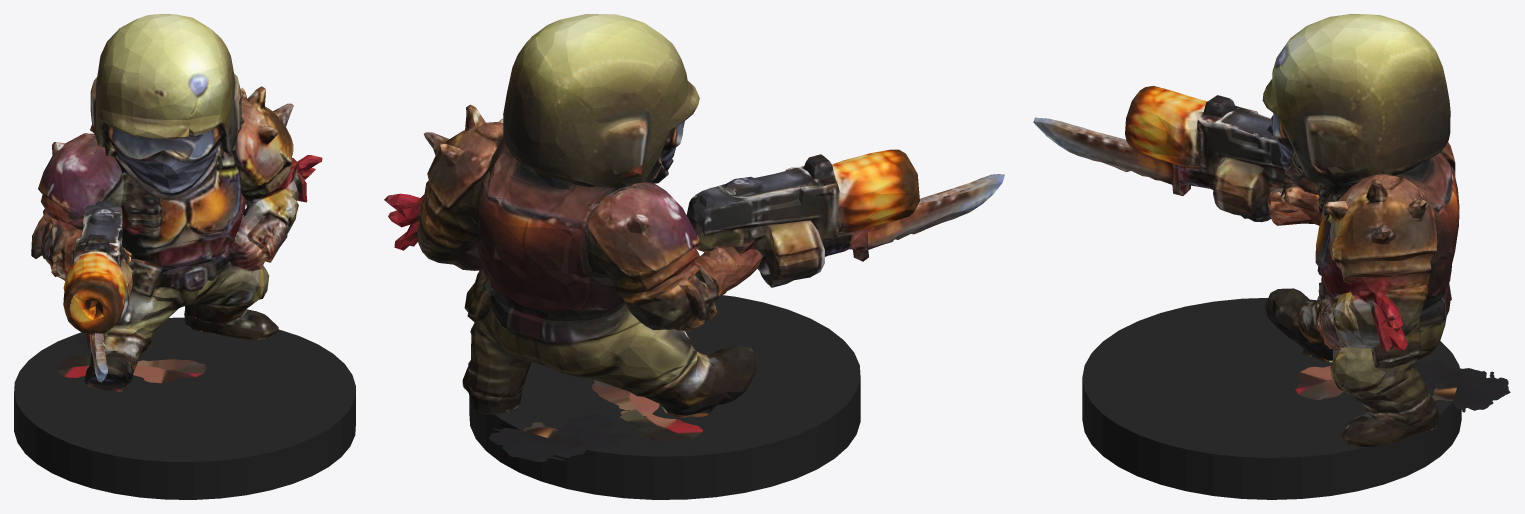
File: bl-gunner-meltagun.glb
3 renders of one model, left to right at view 1: azimuth 30°, elevation 25°; view 2: azimuth 150°, elevation 25°; view 3: azimuth 270°, elevation 25°, orthographic. The views are drawn at different scales.
Visible parts, largest first — view 1: figure, base; view 2: figure, base; view 3: figure, base.
Part boxes in pixels (left/top/right/bottom): figure: left=31, top=14, right=322, bottom=392; base: left=14, top=317, right=355, bottom=499; figure: left=384, top=14, right=1004, bottom=461; base: left=469, top=295, right=860, bottom=499; figure: left=1033, top=14, right=1510, bottom=446; base: left=1082, top=298, right=1461, bottom=499.
Size of the model in its own units: 1.27 by 1.17 by 1.24.
Materials: 2 (1 with a texture image).
